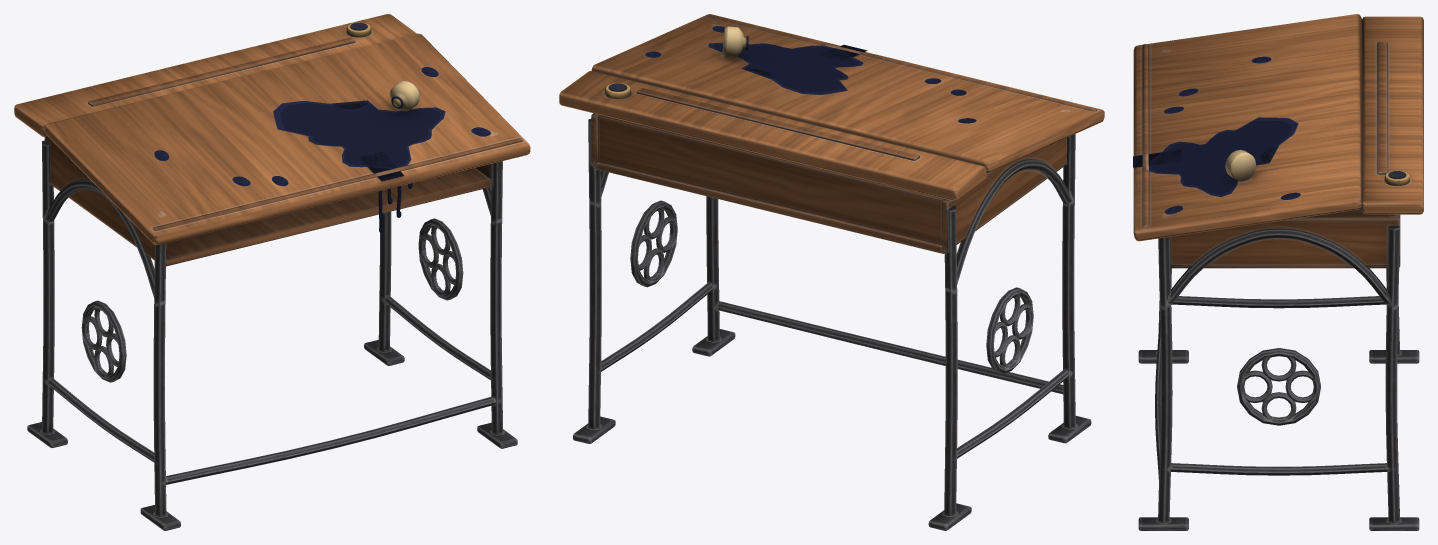
Rendered from StudentDeskInkStained.fbx.
3 views of the same model, side by side, from view 1: azimuth 30°, elevation 25°; view 2: azimuth 150°, elevation 25°; view 3: azimuth 270°, elevation 25° (orthographic). The views are drawn at different scales.
Parts seen in each view (by area): view 1: StudentDeskInkStained; view 2: StudentDeskInkStained; view 3: StudentDeskInkStained.
Part boxes in pixels (left/top/right/bottom): StudentDeskInkStained: left=14, top=14, right=530, bottom=530; StudentDeskInkStained: left=559, top=14, right=1104, bottom=530; StudentDeskInkStained: left=1133, top=14, right=1423, bottom=530.
Bounding box in the file's own units: 300 × 260 × 197.
